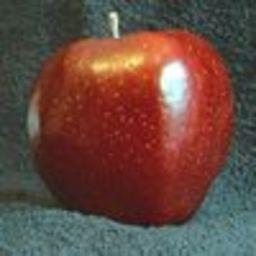apple: (30, 27, 236, 226)
